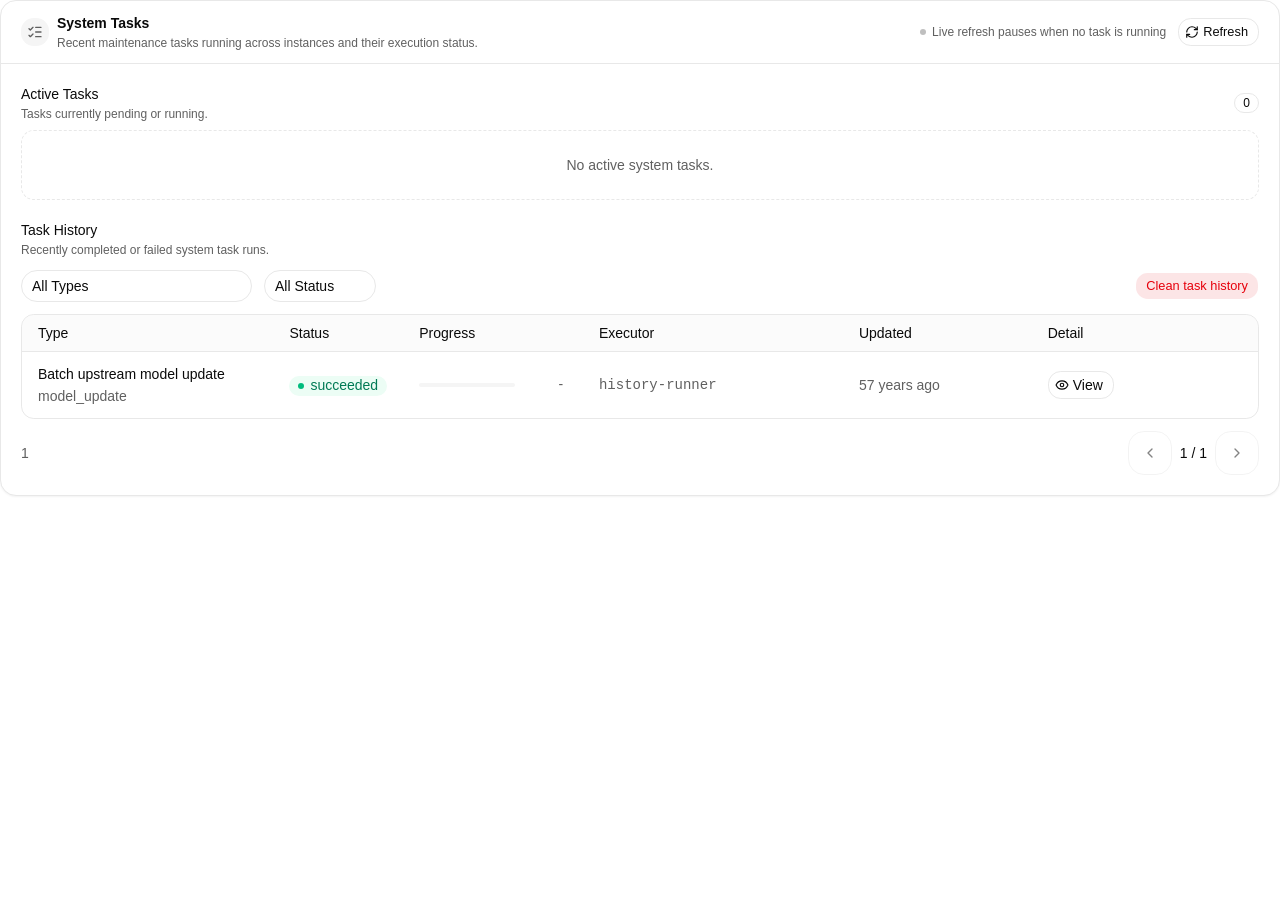
states plainly when a task recorded no detail at all
What coordinates should you click on to do the following:
click the button "View"
I would click on:
 (1081, 384)
Its box is [1048, 370, 1114, 398].
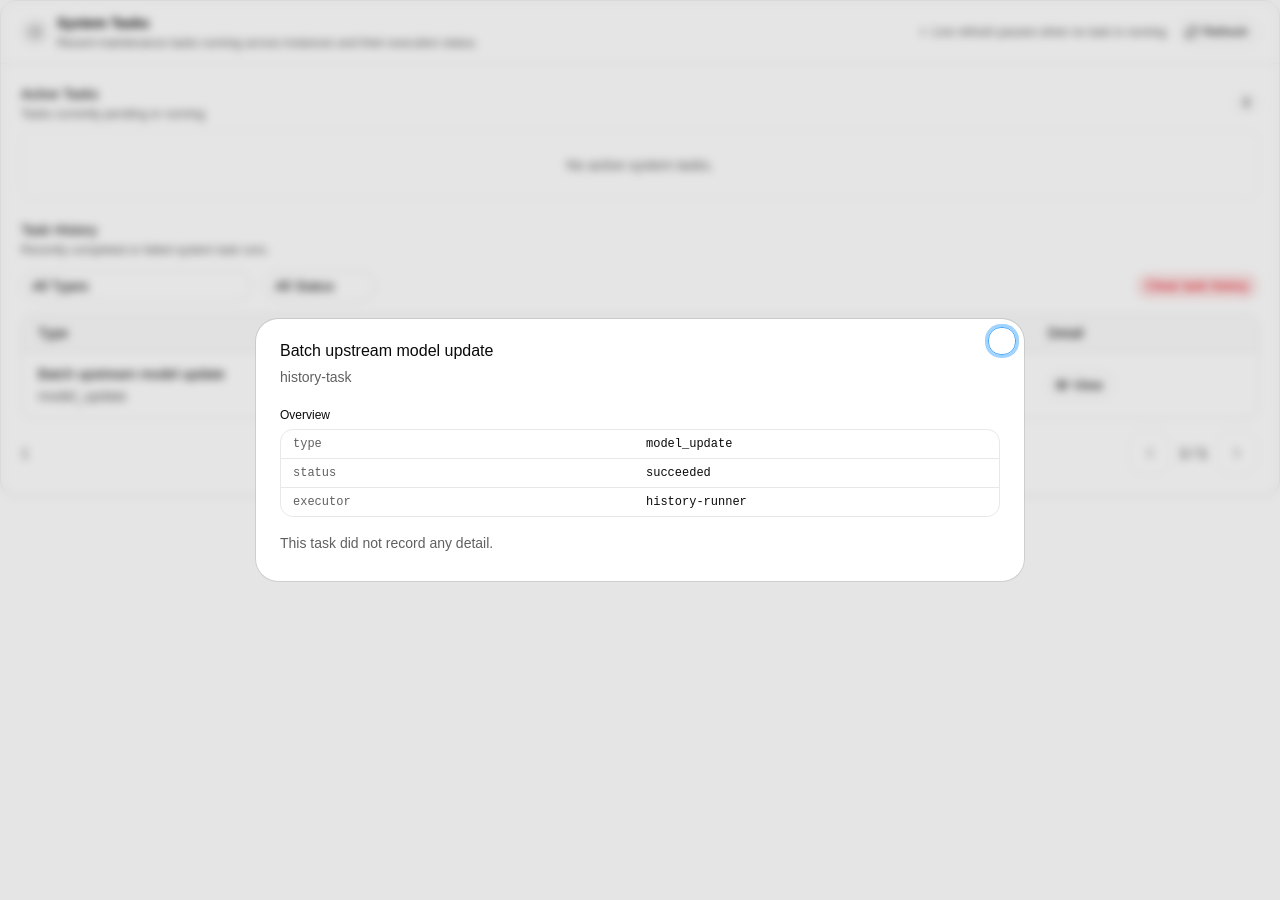
Now the text "This task did not record any detail." is shown, box [280, 535, 493, 551]
